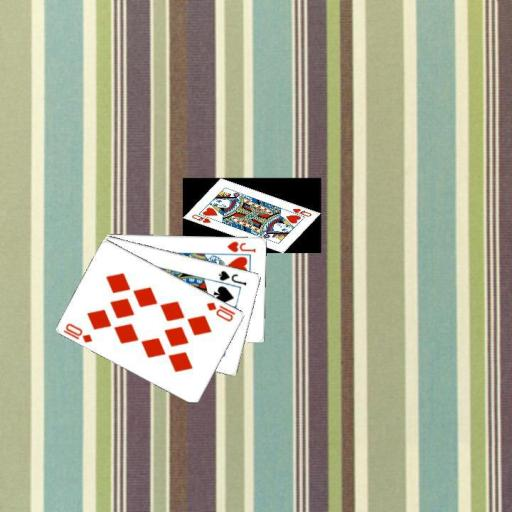10D: (203, 299, 237, 323), (60, 320, 94, 344)
JH: (224, 238, 257, 253)
JS: (216, 268, 248, 287)
